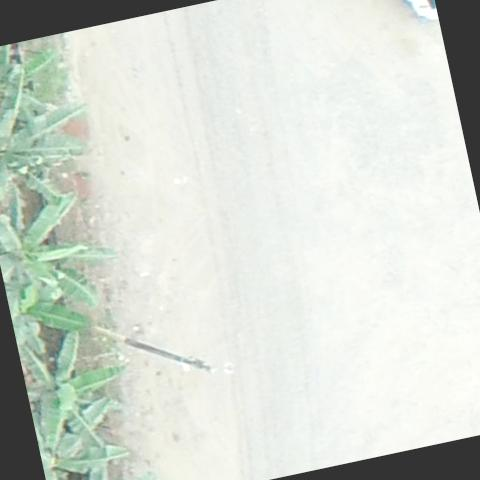Banana-plant: (14, 307, 144, 473), (0, 165, 128, 325), (0, 49, 110, 218), (28, 379, 137, 480), (0, 34, 70, 129)
